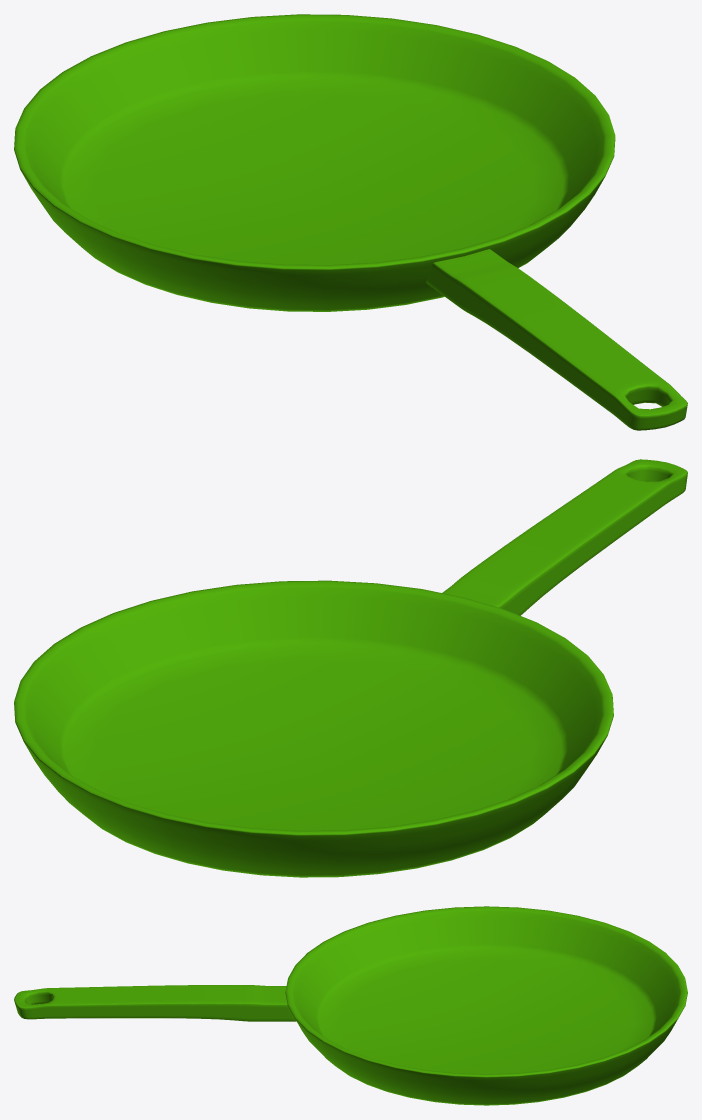
File: Pancake_Stove.fbx
3 views of the same model, one above another, from view 1: azimuth 30°, elevation 25°; view 2: azimuth 150°, elevation 25°; view 3: azimuth 270°, elevation 25° (orthographic). The views are drawn at different scales.
Visible parts, largest first — view 1: Pancake_Stove; view 2: Pancake_Stove; view 3: Pancake_Stove.
Part boxes in pixels (box(x1,y1,x2,y2)): Pancake_Stove: box(14, 14, 687, 430); Pancake_Stove: box(14, 459, 687, 877); Pancake_Stove: box(14, 906, 687, 1105).
Bounding box in the file's own units: 158 × 19.06 × 265.
